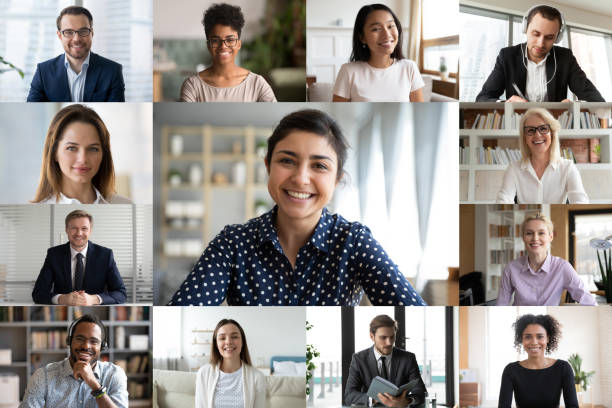without mask: (37, 118, 104, 185), (63, 321, 107, 370), (56, 7, 97, 56), (523, 112, 557, 152), (522, 221, 556, 261), (520, 321, 554, 361), (523, 17, 557, 57), (365, 13, 399, 53), (207, 23, 241, 63), (63, 210, 97, 247), (213, 322, 247, 359), (367, 320, 401, 357)
